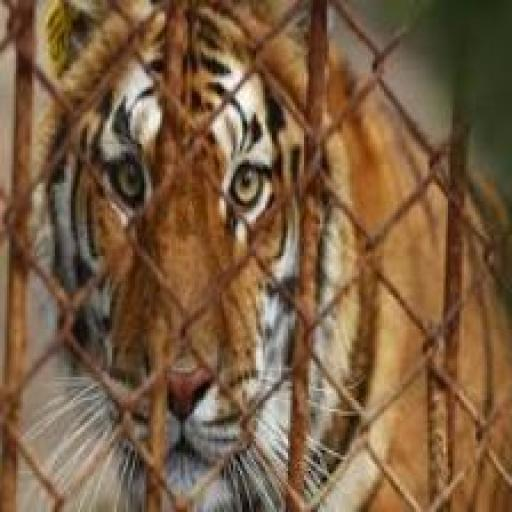Tiger: (7, 18, 482, 490)
